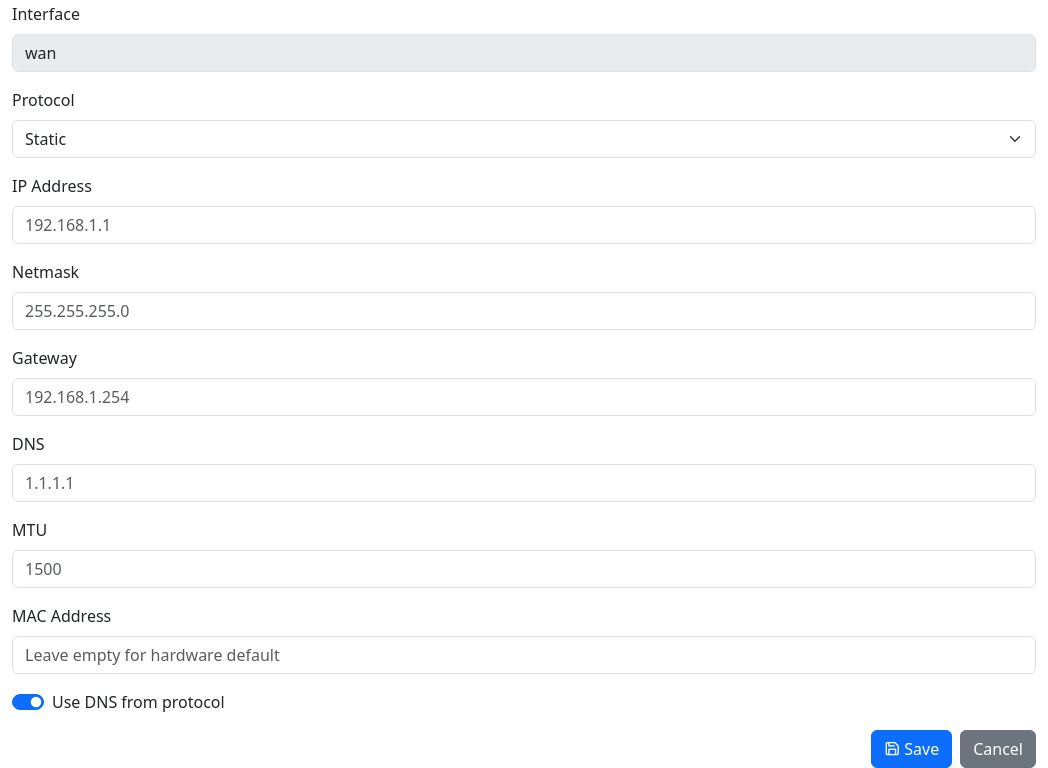
Test: InterfaceForm › edit mode › blocks submit and reports errors when a static interface is missing its addressing
(page scrolled)
What coordinates should you click on to do the following:
click the button "Save"
I would click on:
 (912, 749)
Its box is [871,730,952,767].
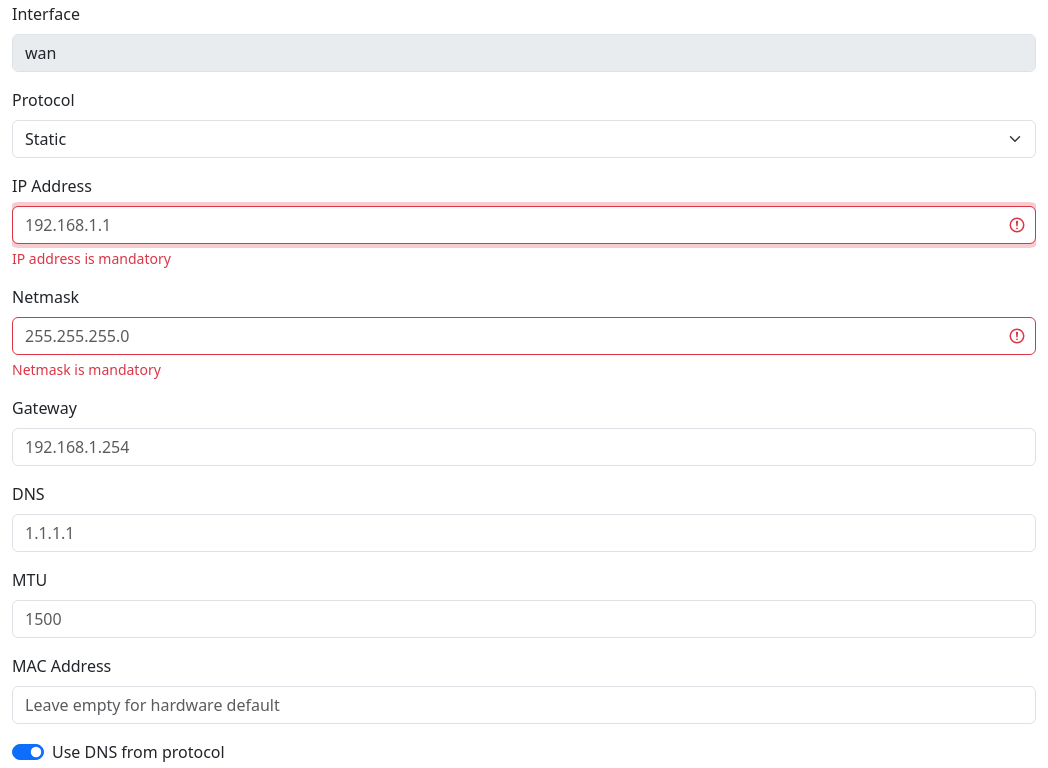
Expected: the text "IP address is mandatory" is shown, [12,249,171,268]
Expected: the text "Netmask is mandatory" is shown, [12,360,161,379]
